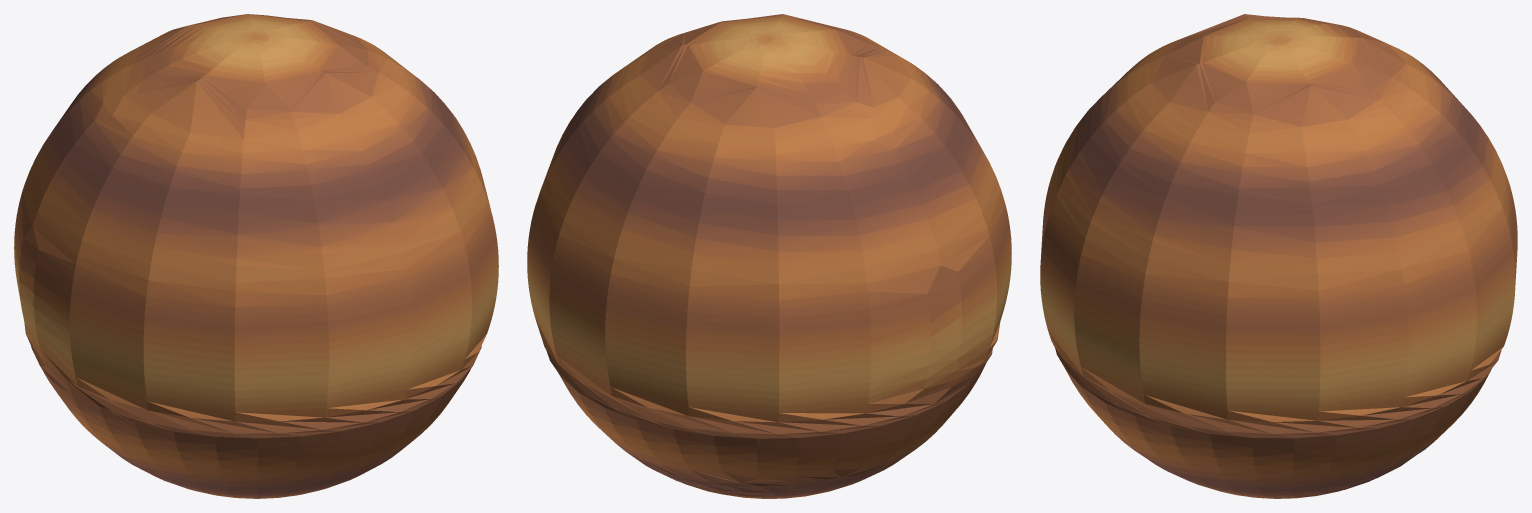
File: cosmos-planet-lo.glb
The picture shows the model from 3 angles, left to right: view 1: azimuth 30°, elevation 25°; view 2: azimuth 150°, elevation 25°; view 3: azimuth 270°, elevation 25°; orthographic projection.
Parts seen in each view (by area): view 1: geometry_0; view 2: geometry_0; view 3: geometry_0.
Part boxes in pixels (bbox=[...]): geometry_0: bbox=[14, 14, 498, 498]; geometry_0: bbox=[527, 14, 1011, 498]; geometry_0: bbox=[1040, 14, 1517, 498].
Bounding box in the file's own units: 0.3971 × 0.4 × 0.3966.
Materials: 1 (1 with a texture image).
